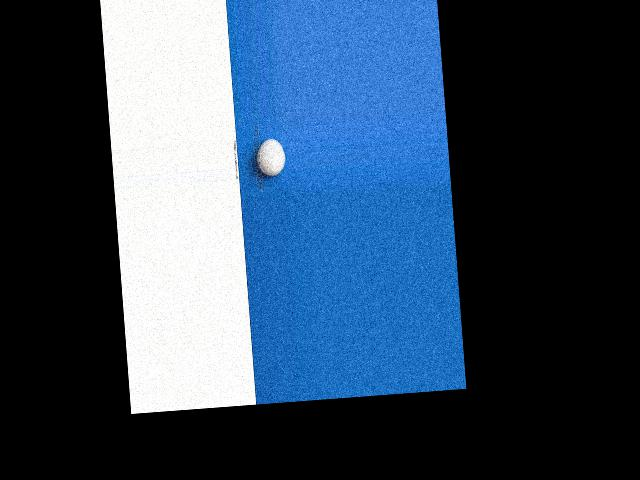egg: (254, 138, 286, 177)
